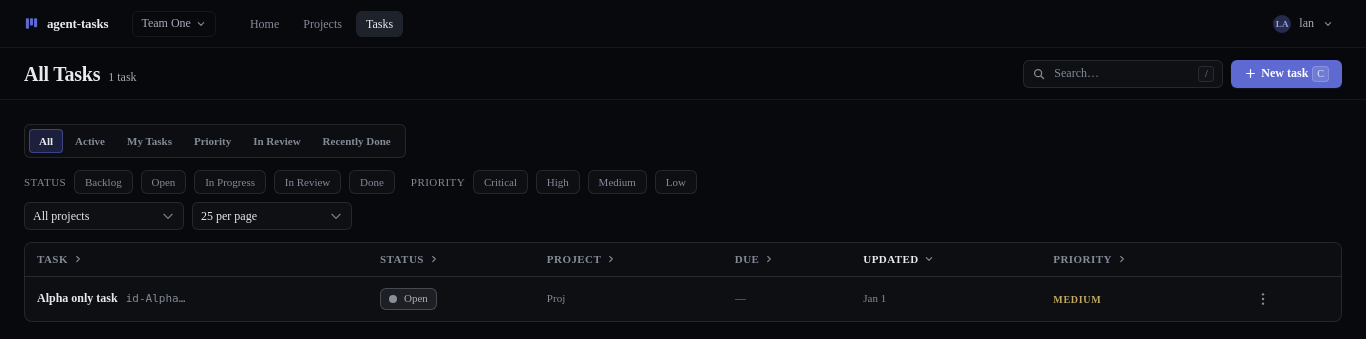
Scenario: /tasks — header team switch › a fast B then A switch ends on A, and B's late response is ignored
Expected: the text "Alpha only task" is shown, [37,290,118,308]
Click the button with aria-label "Switch team" at (174, 24), box [132,10,216,36]
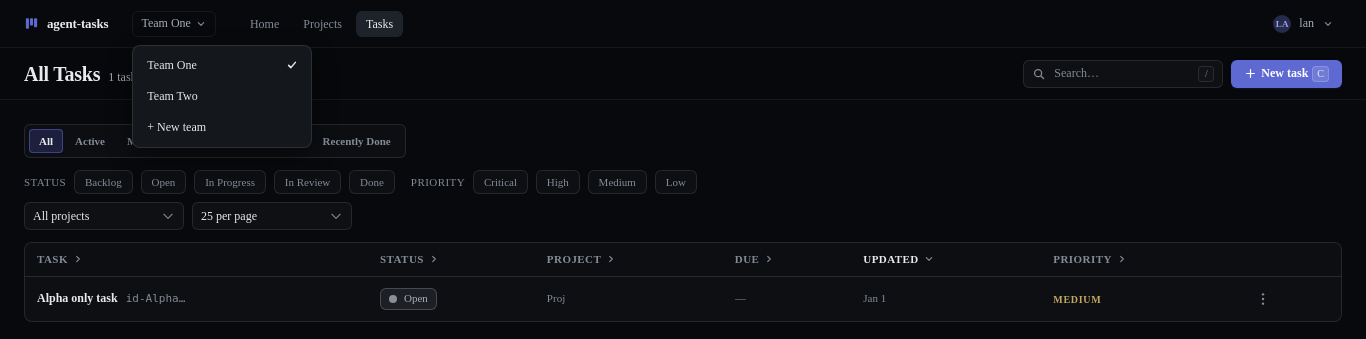
Click the menu item "Team Two" at (222, 96), box [137,80,307,112]
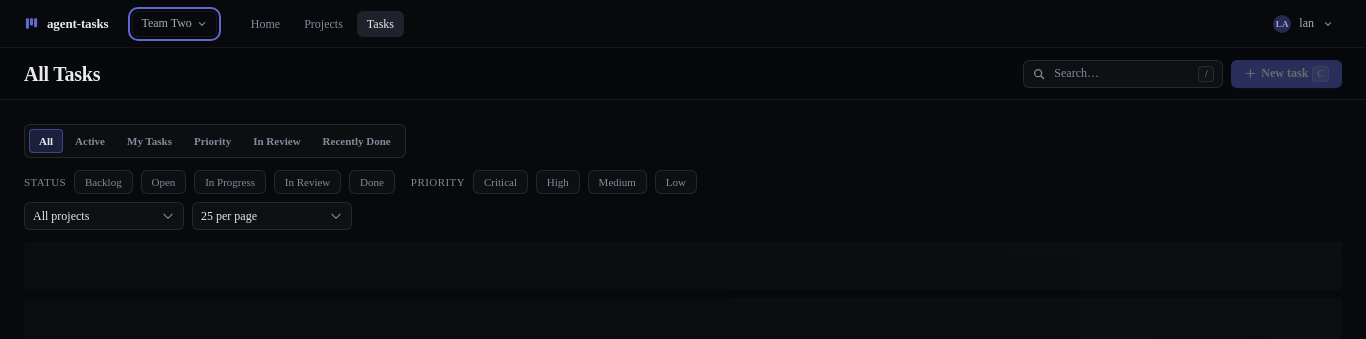
Click the button with aria-label "Switch team" at (175, 24), box [132,10,217,36]
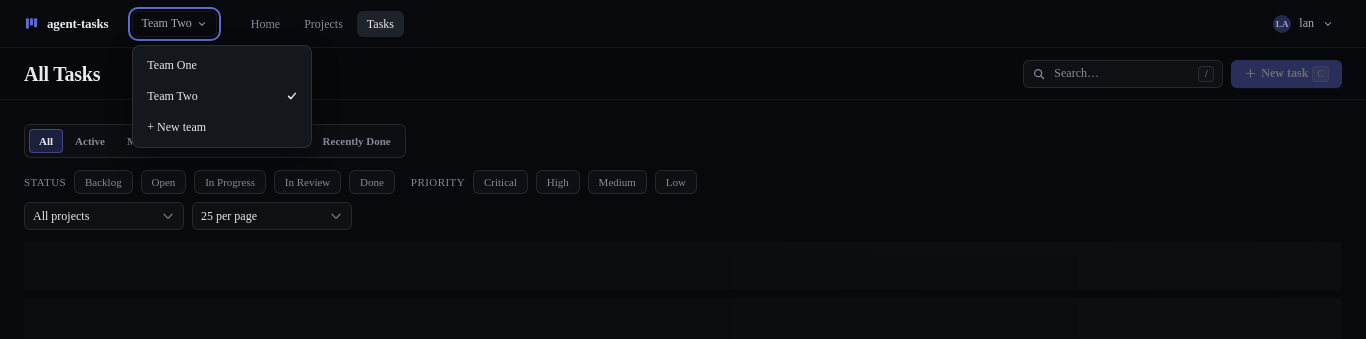
Click the menu item "Team One" at (222, 65), box [137,50,307,80]
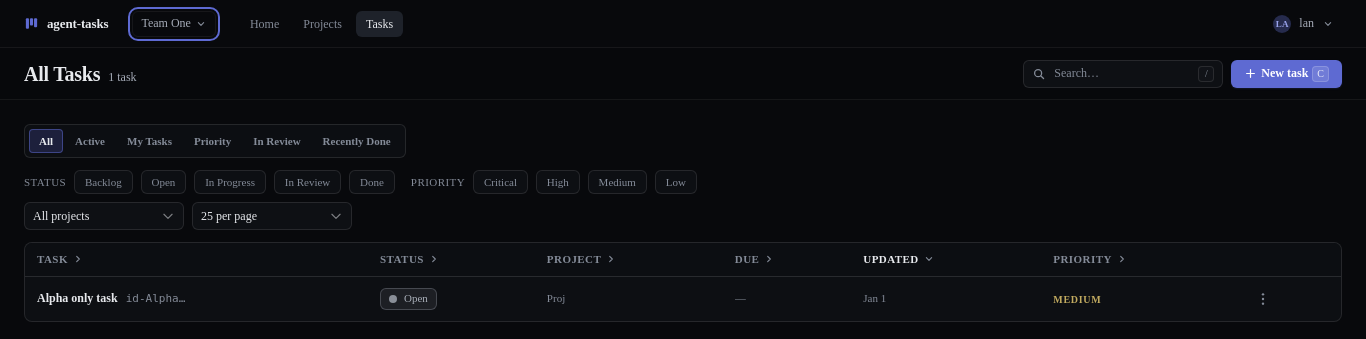
Expected: the text "Alpha only task" is shown, [37,290,118,308]
Expected: the text "Team One" is shown, [141,16,191,31]
